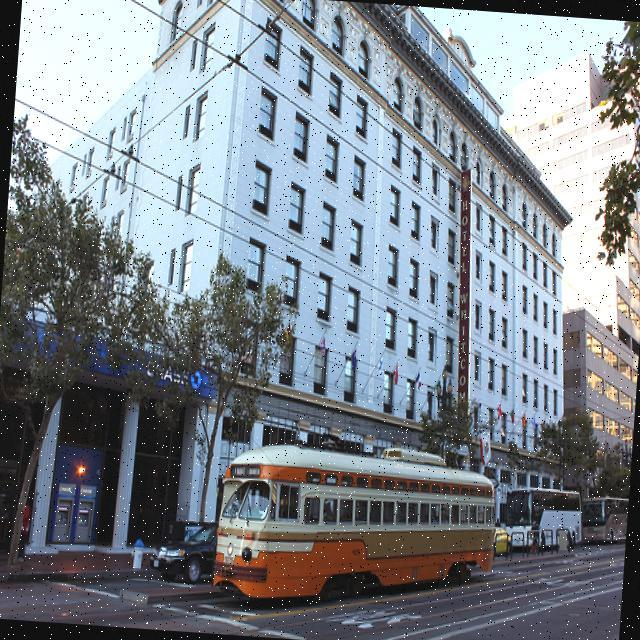fire_hydrant: (132, 538, 144, 568)
